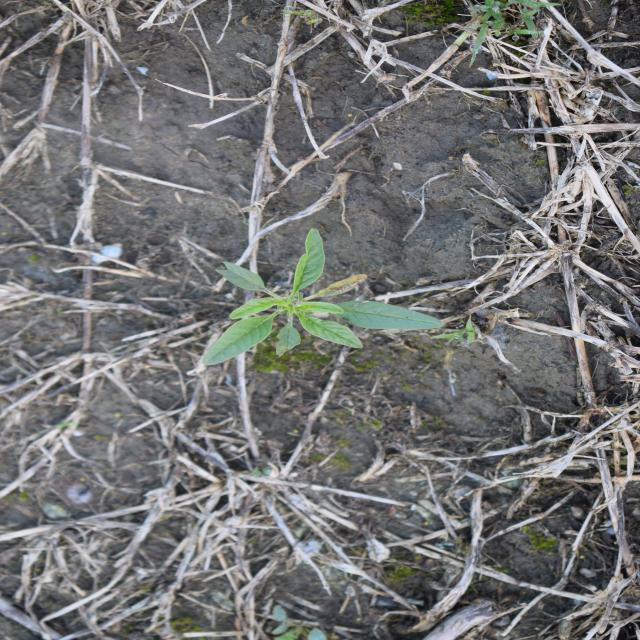Waterhemp: (195, 226, 446, 369)
